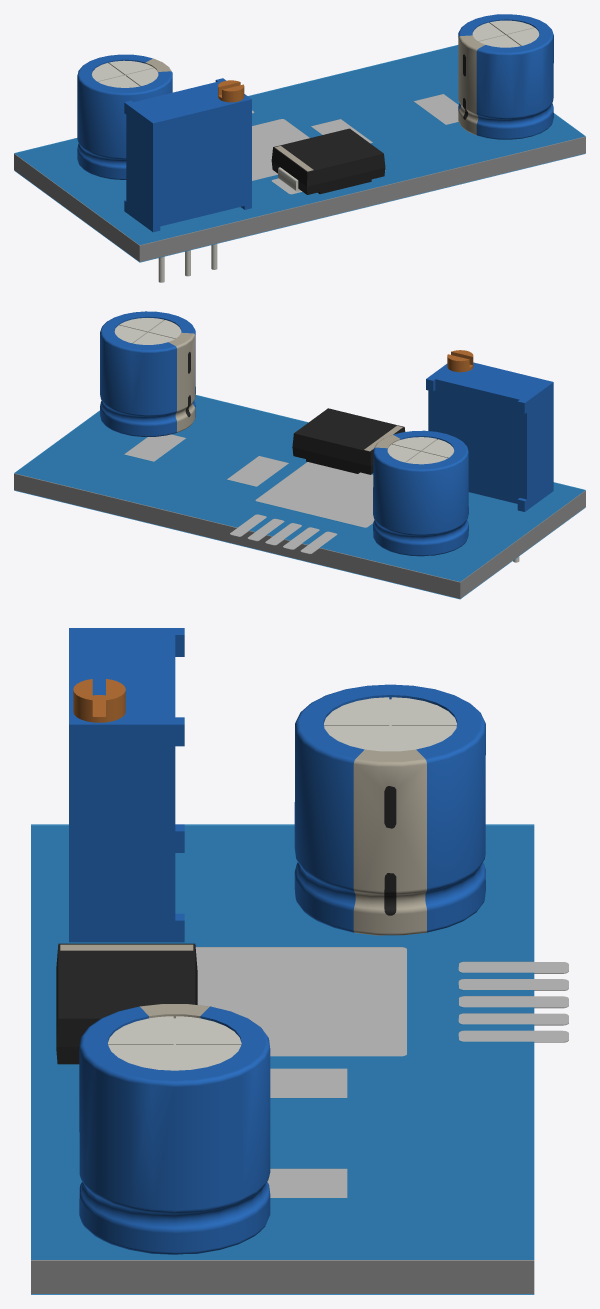
3 renders of one model, top to bottom at view 1: azimuth 30°, elevation 25°; view 2: azimuth 150°, elevation 25°; view 3: azimuth 270°, elevation 25°, orthographic. The views are drawn at different scales.
Visible parts, largest first — view 1: REF**, =>[0:1:1:9], =>[0:1:1:7], =>[0:1:1:6]; view 2: REF**, =>[0:1:1:9], =>[0:1:1:7], =>[0:1:1:6]; view 3: REF**, =>[0:1:1:9], =>[0:1:1:7], =>[0:1:1:6].
Boxes of the visible parts, x1=… form: REF**: x1=77, y1=14, x2=553, y2=282; =>[0:1:1:9]: x1=14, y1=46, x2=585, y2=261; =>[0:1:1:7]: x1=14, y1=45, x2=585, y2=262; =>[0:1:1:6]: x1=252, y1=94, x2=458, y2=194; REF**: x1=100, y1=311, x2=553, y2=562; =>[0:1:1:9]: x1=14, y1=396, x2=585, y2=598; =>[0:1:1:7]: x1=14, y1=395, x2=585, y2=599; =>[0:1:1:6]: x1=124, y1=434, x2=374, y2=554; REF**: x1=56, y1=628, x2=485, y2=1254; =>[0:1:1:9]: x1=31, y1=826, x2=534, y2=1293; =>[0:1:1:7]: x1=31, y1=824, x2=534, y2=1294; =>[0:1:1:6]: x1=195, y1=947, x2=568, y2=1198.
Bounding box in the file's own units: 0.043 × 0.0171 × 0.0224.
4 materials, 4 textured.
